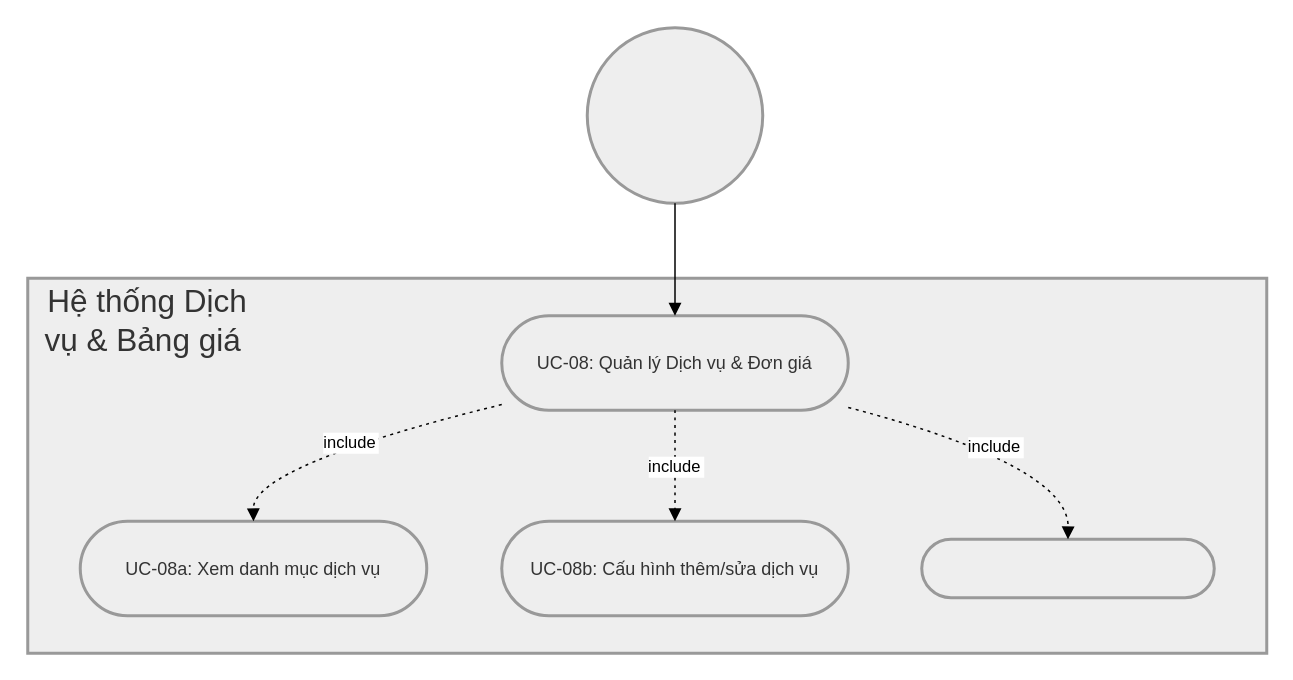
Some shapes in this 1293 by 680 pixel diagram are drawn without their labels. Here are the shapes that lost their labels. From the top down, the centre of each, then its label:
At point 674,115: "Quản trị viên ROLE_ADMIN".
At point 1067,567: "UC-08c: Xóa gói dịch vụ".
